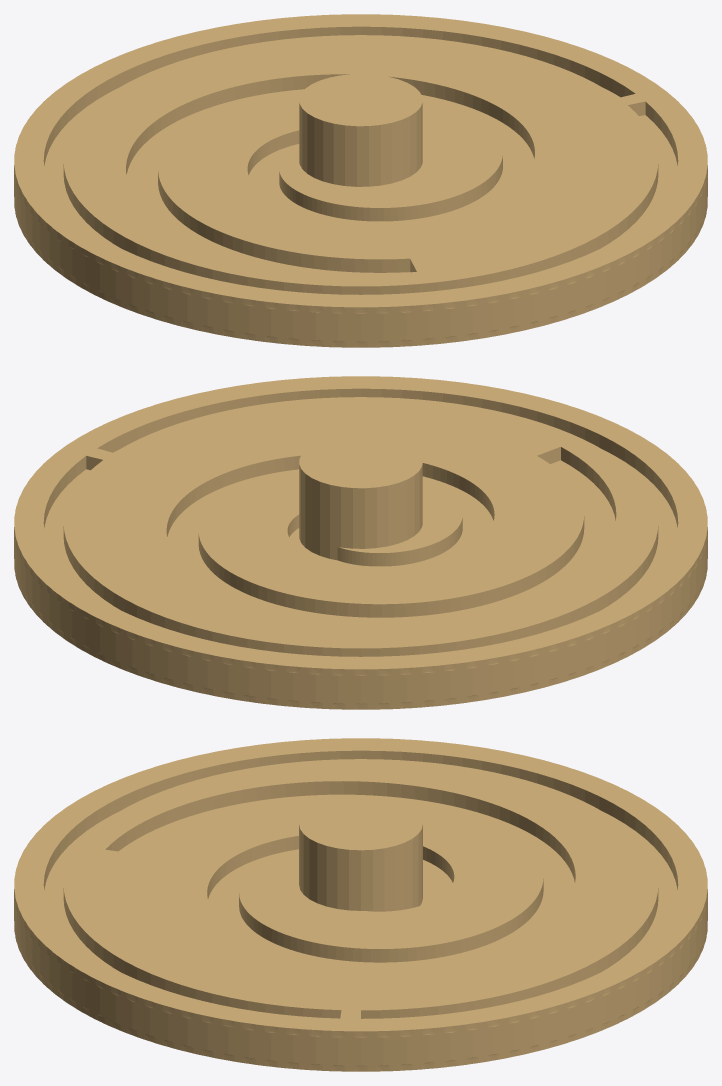
The model's file is medallion.glb.
3 renders of one model, top to bottom at view 1: azimuth 30°, elevation 25°; view 2: azimuth 150°, elevation 25°; view 3: azimuth 270°, elevation 25°, orthographic.
Parts seen in each view (by area): view 1: Coin; view 2: Coin; view 3: Coin.
Boxes of the visible parts, box(x1,y1,x2,y2) form: Coin: box(14, 14, 707, 347); Coin: box(14, 376, 707, 709); Coin: box(14, 738, 707, 1071).
Size of the model in its own units: 2.8 by 0.5 by 2.8.
